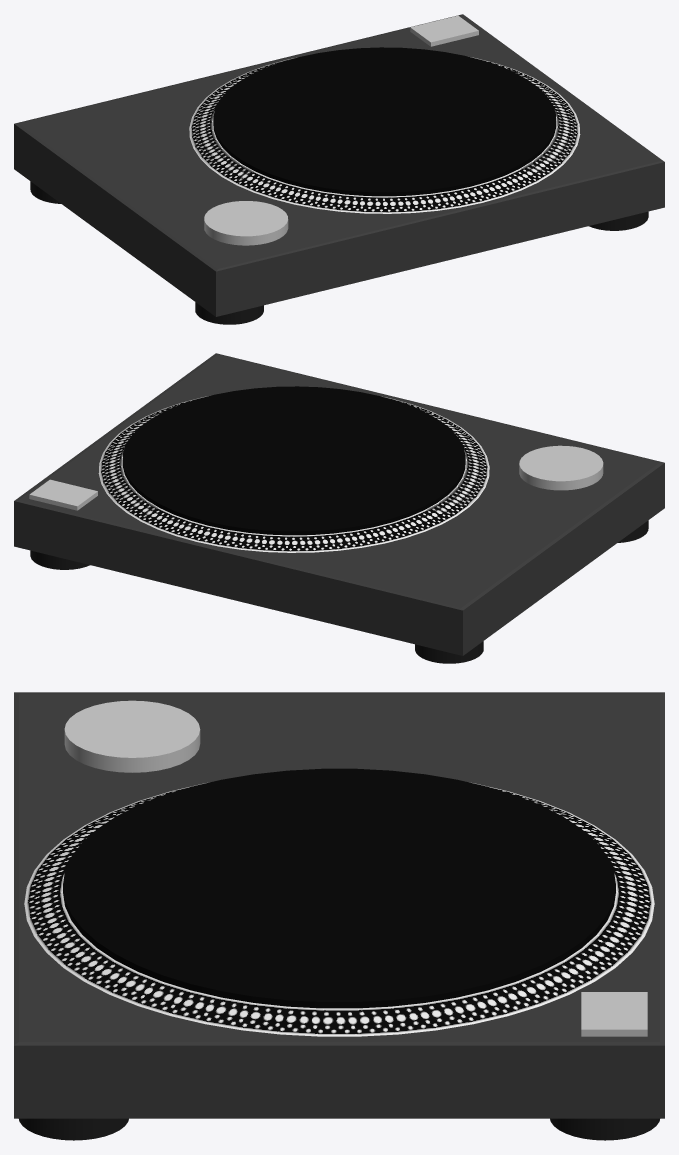
Rendered from player.glb.
The picture shows the model from 3 angles, top to bottom: view 1: azimuth 30°, elevation 25°; view 2: azimuth 150°, elevation 25°; view 3: azimuth 270°, elevation 25°; orthographic projection. The views are drawn at different scales.
Visible parts, largest first — view 1: Player, Turntable, Border, Cylinder.005, Playbutton, Cylinder, Cylinder.001; view 2: Player, Turntable, Border, Cylinder.005, Playbutton, Cylinder.002, Cylinder.004; view 3: Player, Turntable, Border, Cylinder.005, Playbutton, Cylinder.001, Cylinder.004.
Boxes of the visible parts, box(x1,y1,x2,y2) form: Player: box(14, 14, 664, 316); Turntable: box(213, 47, 556, 196); Border: box(189, 57, 580, 213); Cylinder.005: box(204, 201, 288, 245); Playbutton: box(410, 15, 478, 46); Cylinder: box(195, 302, 263, 324); Cylinder.001: box(589, 211, 648, 230); Player: box(14, 353, 664, 655); Turntable: box(122, 386, 465, 535); Border: box(98, 396, 489, 552); Cylinder.005: box(519, 445, 603, 490); Playbutton: box(29, 479, 97, 510); Cylinder.002: box(415, 641, 483, 663); Cylinder.004: box(30, 550, 89, 569); Player: box(14, 692, 664, 1118); Turntable: box(63, 768, 615, 1008); Border: box(24, 782, 654, 1036); Cylinder.005: box(64, 700, 200, 772); Playbutton: box(581, 992, 647, 1036); Cylinder.001: box(19, 1118, 128, 1140); Cylinder.004: box(550, 1118, 659, 1140).
Bounding box in the file's own units: 0.453 × 0.0694 × 0.353.
5 materials, 1 textured.
